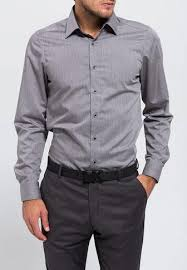F_belt: (39, 154, 153, 186)
F_dress pants: (37, 171, 147, 270)
F_shirt: (16, 24, 169, 209)
